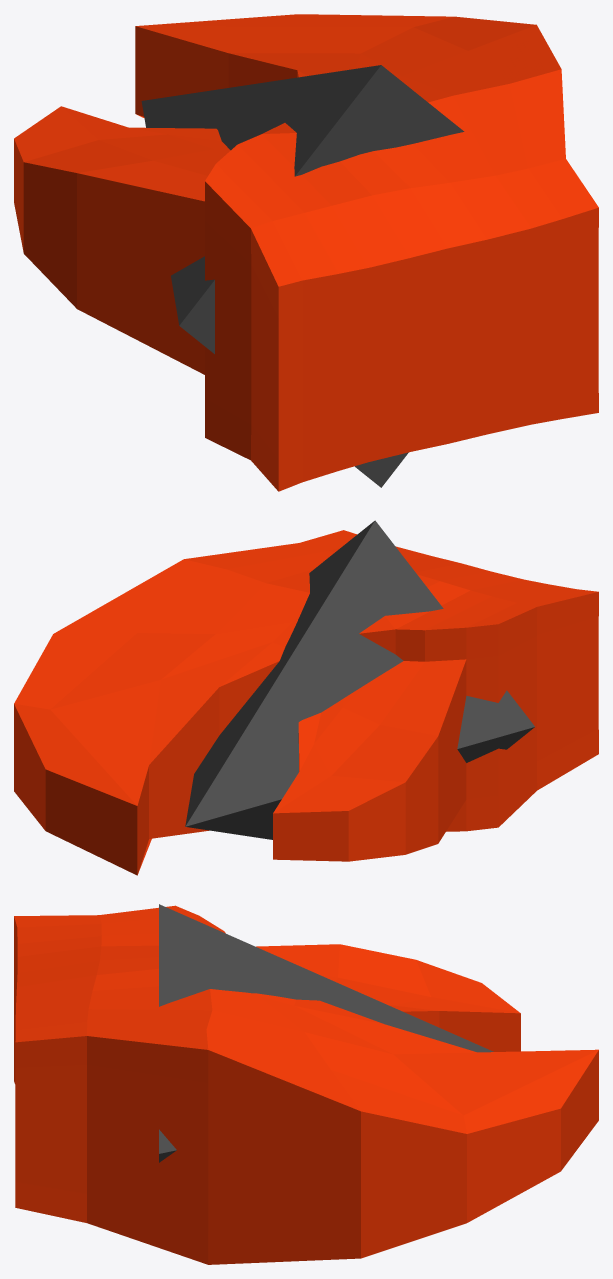
The model's file is Saw Parts.fbx.
The picture shows the model from 3 angles, top to bottom: view 1: azimuth 30°, elevation 25°; view 2: azimuth 150°, elevation 25°; view 3: azimuth 270°, elevation 25°; orthographic projection. The views are drawn at different scales.
Visible parts, largest first — view 1: Plane.012, Spikes.001; view 2: Plane.012, Spikes.001; view 3: Plane.012, Spikes.001.
Boxes of the visible parts, x1,y1,x2,y2 form: Plane.012: (14,14,598,491); Spikes.001: (141,65,464,487); Plane.012: (14,530,598,875); Spikes.001: (185,520,534,839); Plane.012: (14,905,598,1264); Spikes.001: (159,904,493,1162).
Bounding box in the file's own units: 97.22 × 81.35 × 127.
